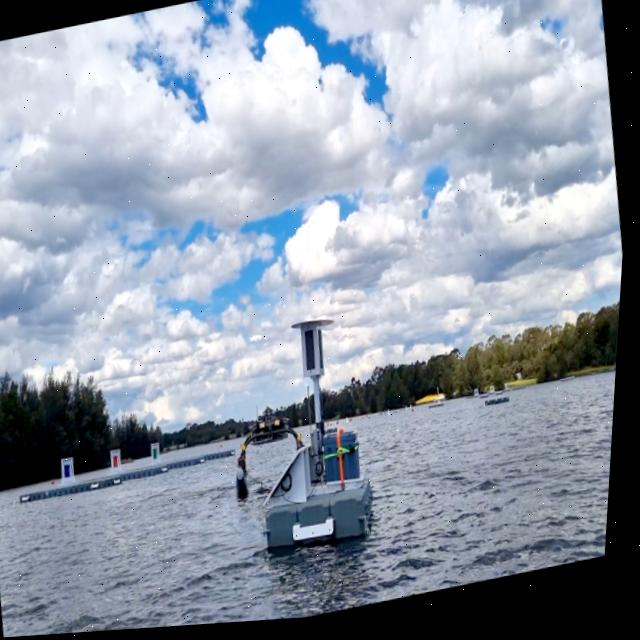led: (304, 330, 326, 382)
